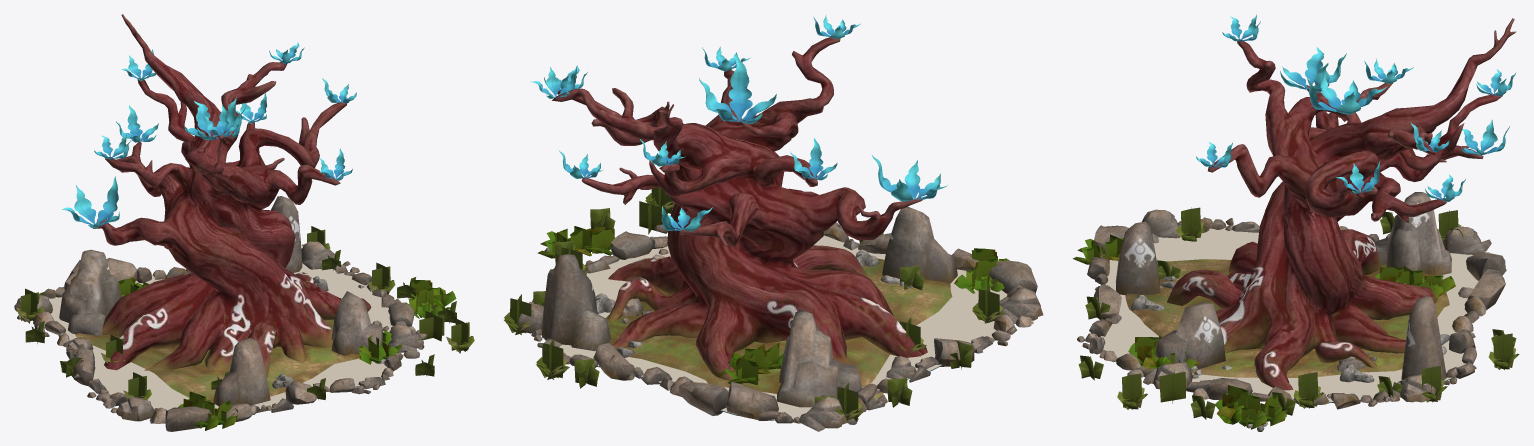
Rendered from 93-wonder-shennong.glb.
The picture shows the model from 3 angles, left to right: view 1: azimuth 30°, elevation 25°; view 2: azimuth 150°, elevation 25°; view 3: azimuth 270°, elevation 25°; orthographic projection. The views are drawn at different scales.
Size of the model in its own units: 18.37 by 12.41 by 16.57.
Materials: 9 (8 with a texture image).
